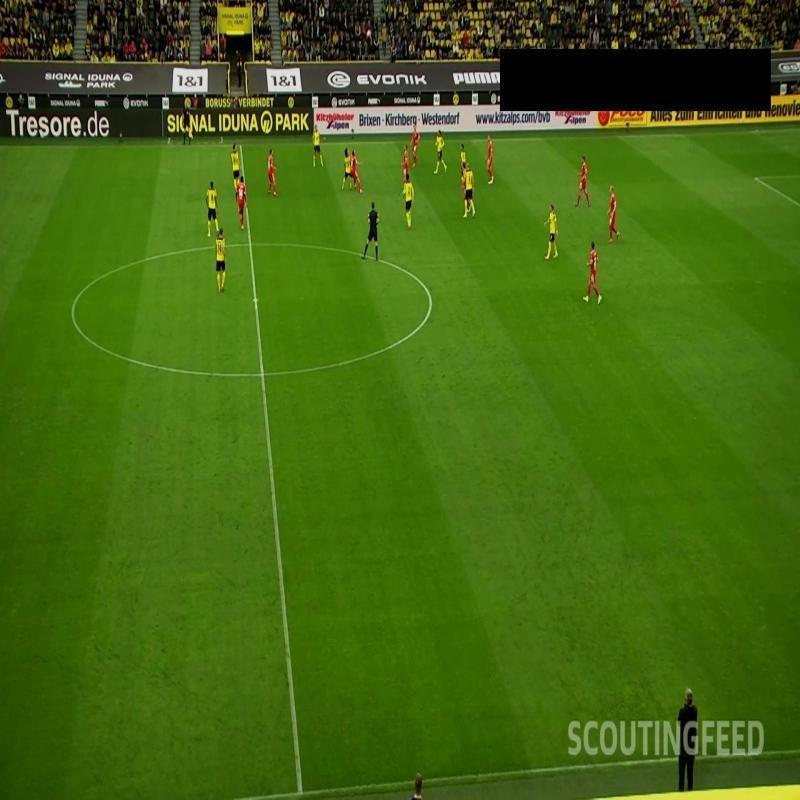13: (234, 138, 248, 152)
14: (244, 238, 258, 251)
15: (255, 367, 268, 381)
16: (292, 786, 310, 800)
9: (748, 170, 762, 184)
c: (65, 298, 81, 320), (423, 292, 437, 306)
